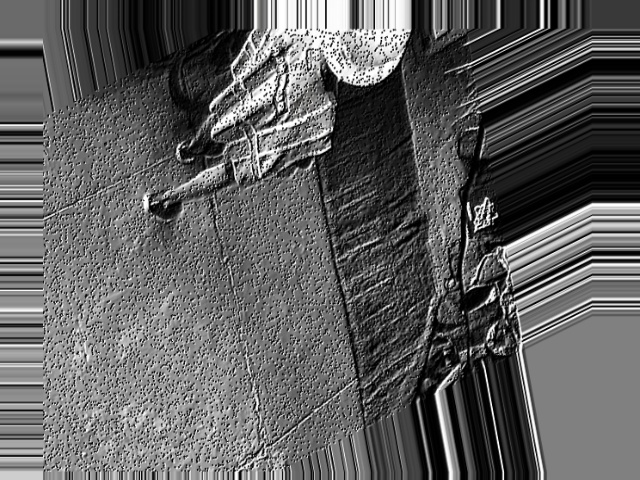eight: (339, 0, 382, 35)
